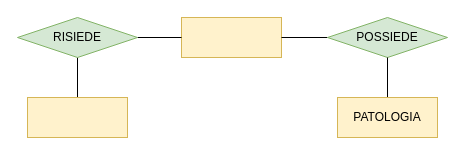
The diagram is 465 pixels wide and 155 high, and some of its shapes have lost their labels. The centre of each missing label's shape, as x and y in pixels:
"PAZIENTE" goes at (231,37).
"RESIDENZA" goes at (77,117).
